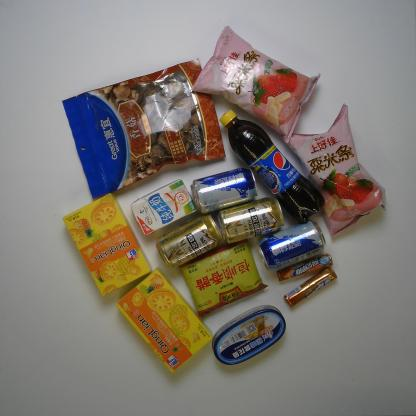Alcohol: (155, 213, 223, 269), (256, 219, 327, 272), (216, 197, 285, 244), (190, 167, 258, 214)
Candy: (283, 267, 338, 307), (276, 252, 333, 282)
Canned Food: (212, 305, 286, 365)
Dessert: (115, 266, 213, 374), (62, 192, 152, 297)
Dried Food: (62, 58, 226, 200)
Drink: (219, 110, 325, 224)
Milk: (130, 179, 197, 235)
Puffed Food: (191, 25, 321, 144), (281, 103, 387, 239)
Seasoner: (178, 239, 268, 317)
